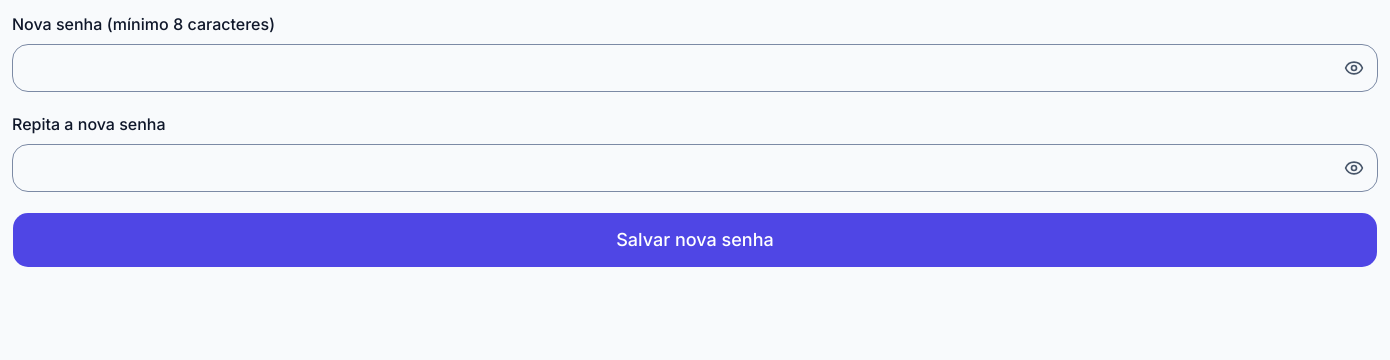
Test: ResetPasswordForm › link vencido: explica e oferece pedir outro
In the password field labelled "Nova senha (mínimo 8 caracteres)": (695, 68) [12,44,1378,92], type "senha-nova-123"
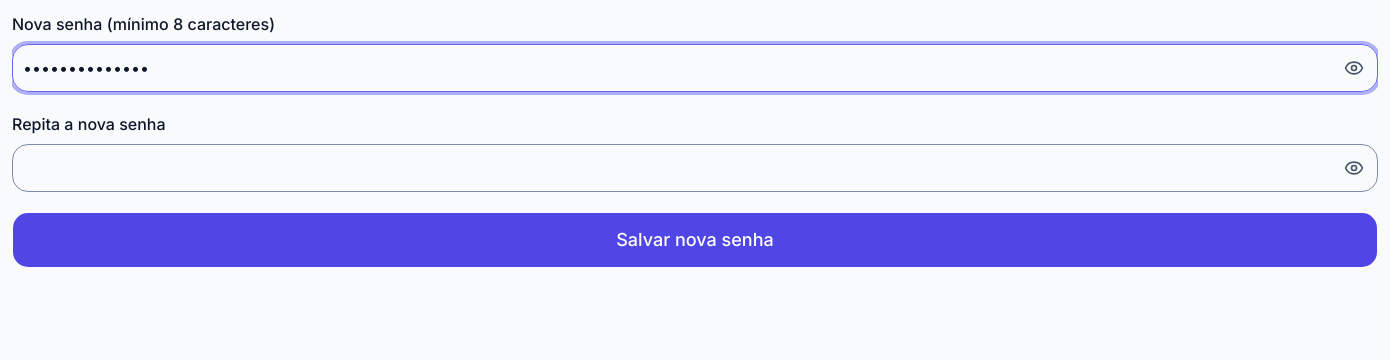
In the password field labelled "Repita a nova senha": (695, 168) [12,144,1378,192], type "senha-nova-123"
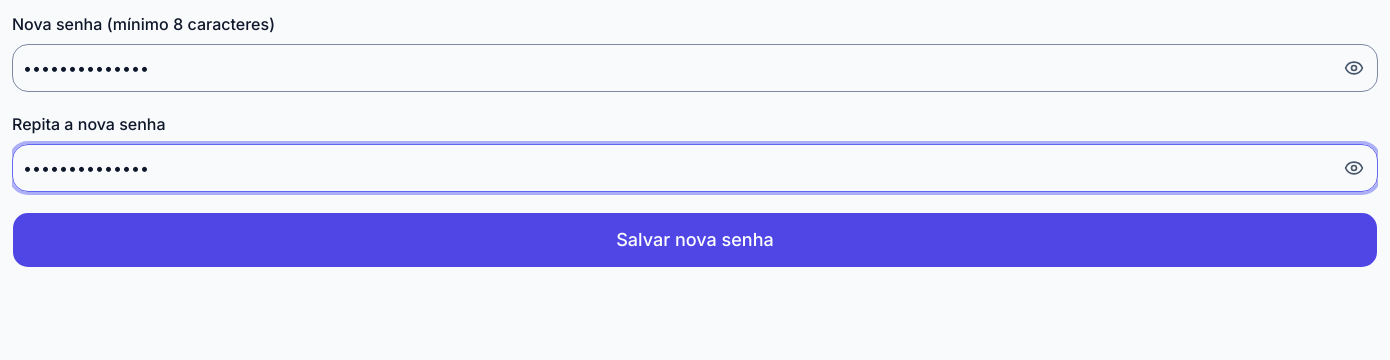
Click the button "Salvar nova senha": click(695, 240) [12,212,1378,268]
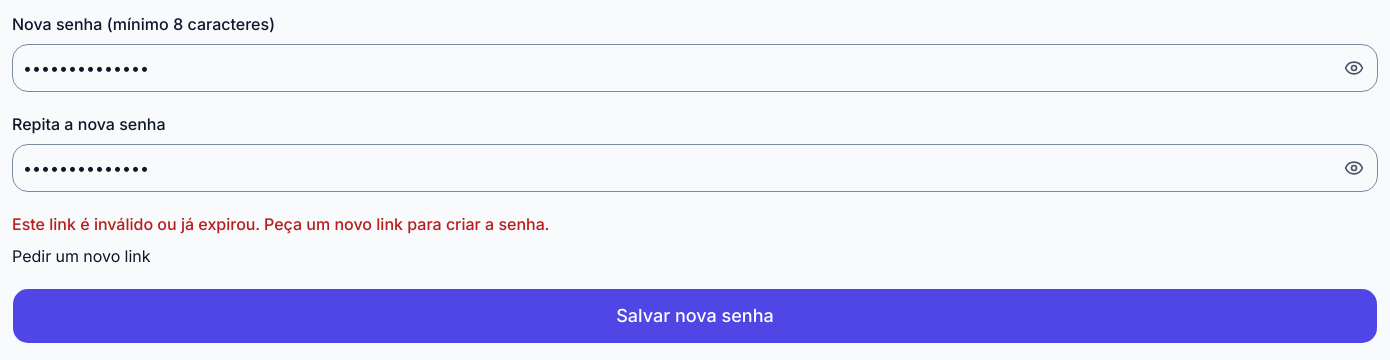
Now the message shows "inválido ou já expirou", box [12,214,549,234]
